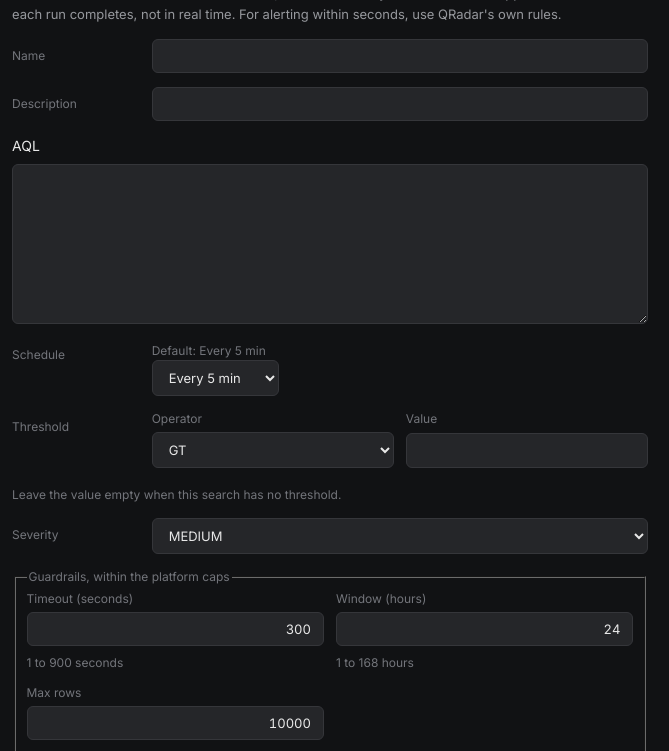
Test: new search editor › puts the cron-floor refusal beside the schedule
Type "Nightly count" into the field labelled "Name" at (400, 56), box [152,39,648,73]
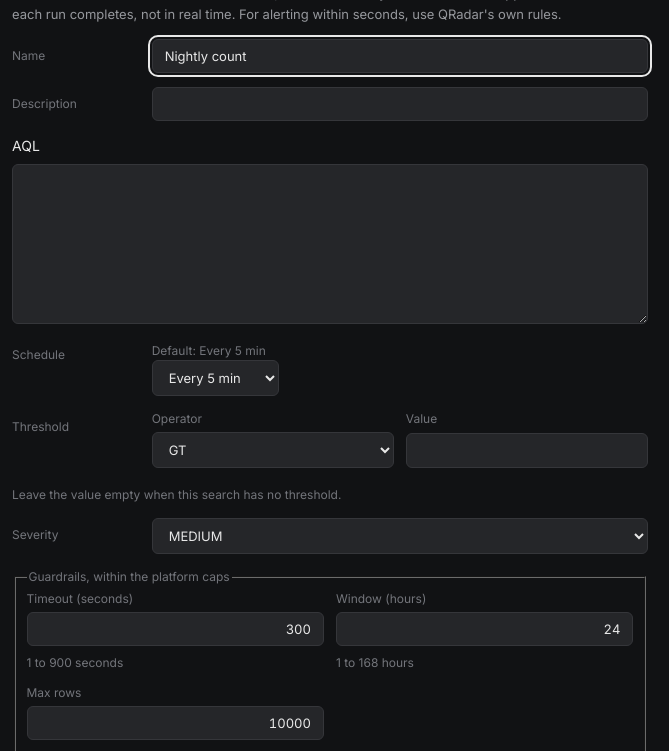
Type "SELECT COUNT(*) FROM events" into the text box labelled "AQL" at (330, 244), box [12,164,648,324]
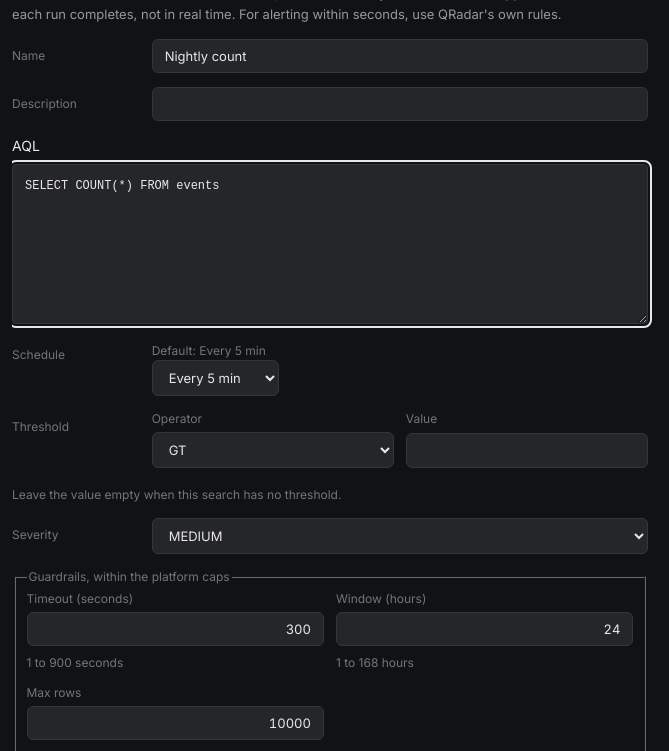
Select "Every 5 min" in the dropdown labelled "Schedule" at (215, 378), box [152,360,279,396]
(page scrolled)
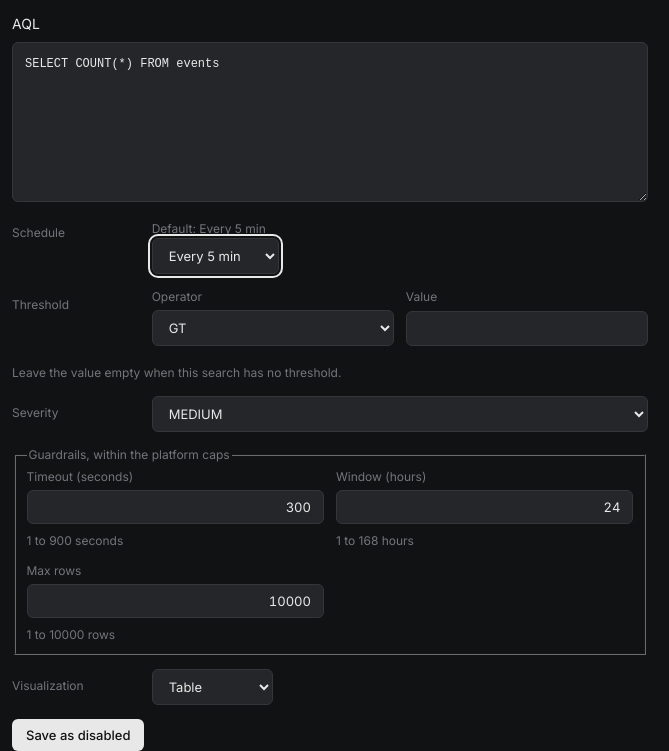
Click the button "Save as disabled" at (78, 735), box [12,719,144,750]
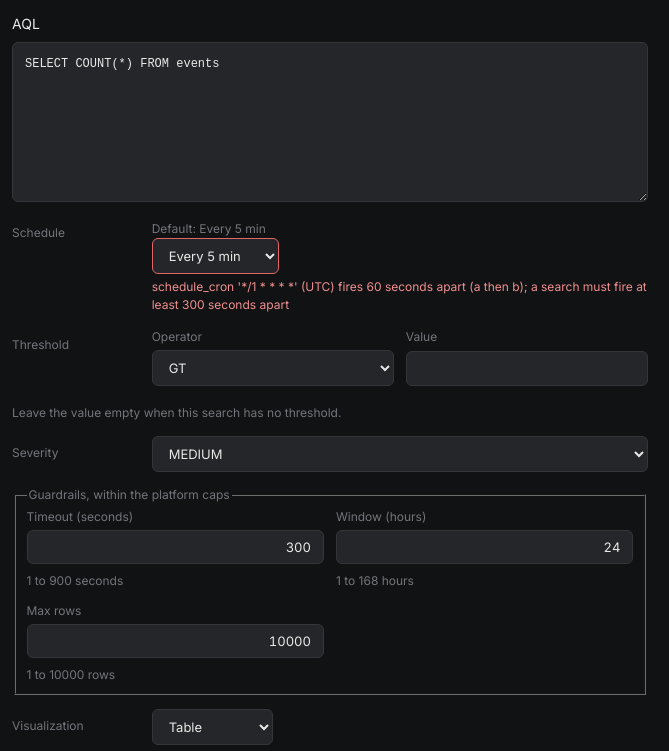
Expected: the message shows "schedule_cron '*/1 * * * *' (UTC) fires 60 seconds apart (a then b); a search must fire at least 300 seconds apart", [152,279,647,312]
